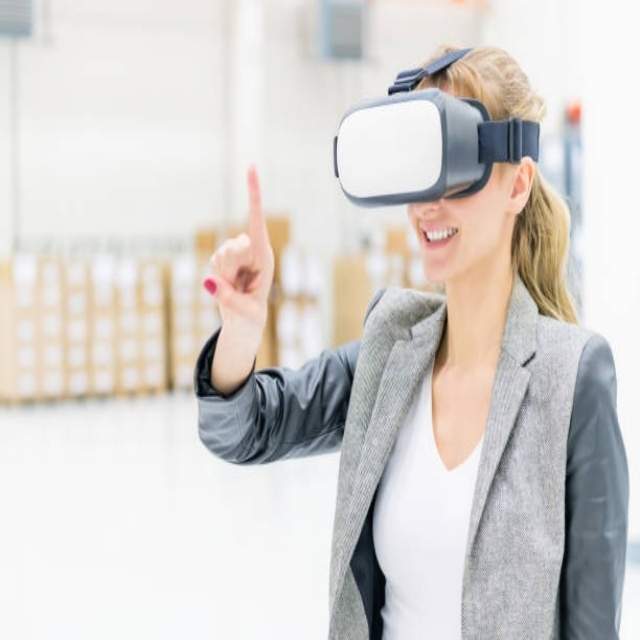Sin_guantes: (197, 162, 276, 334)
Sin_mascara: (412, 220, 464, 270)
